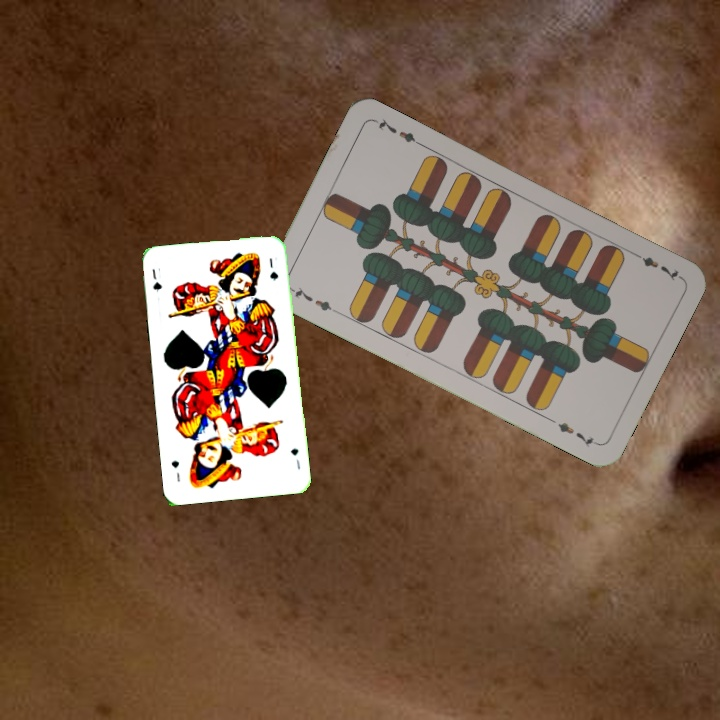E7: (628, 247, 683, 284), (285, 282, 335, 314)
GU: (148, 265, 164, 294), (287, 444, 303, 472)
